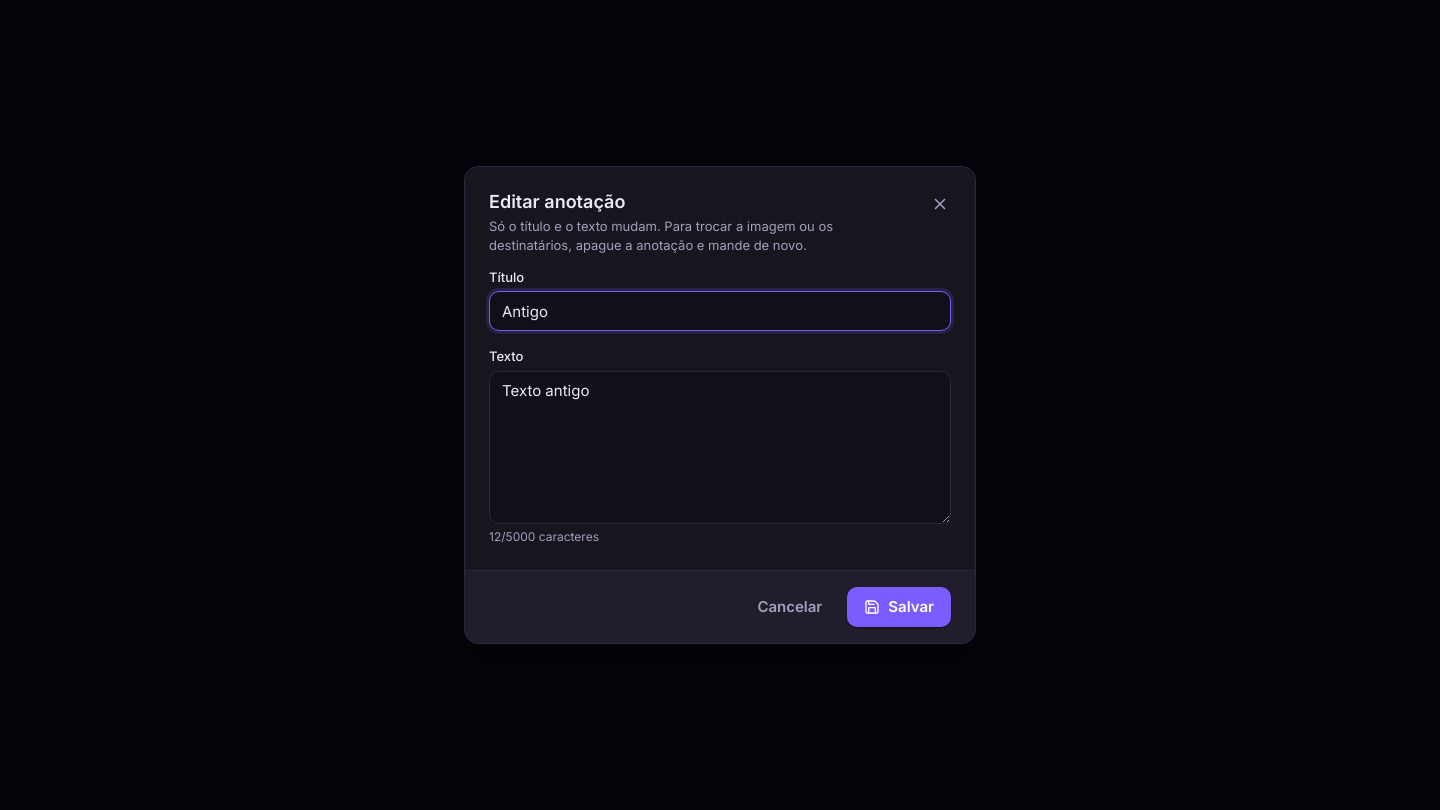
Test case: editar › shouldShowAnEditFailureInsideTheWindow
Click the button "Salvar" at (899, 607), box [847,587,951,627]
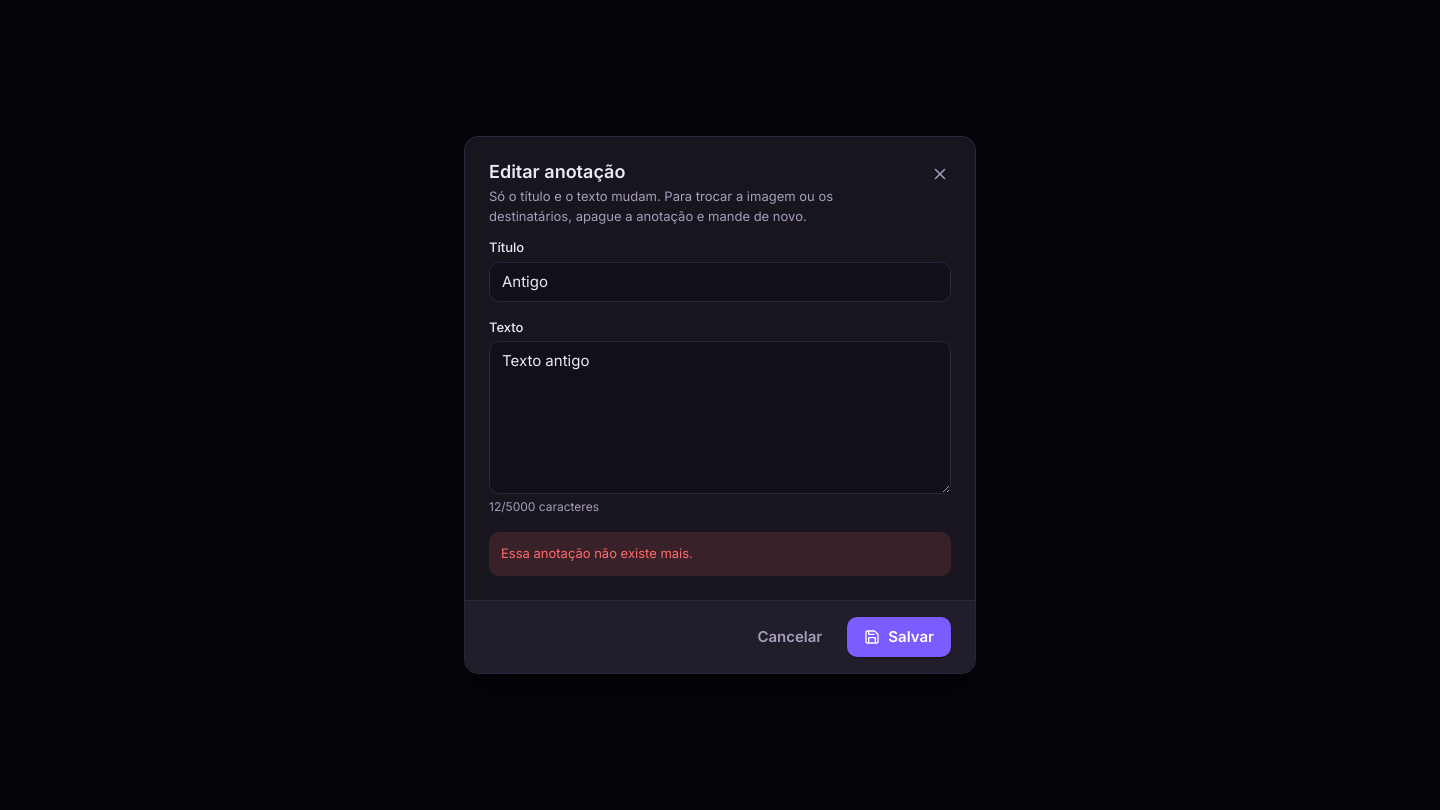
Expected: the message reads "Essa anotação não existe mais.", [501,545,693,561]
